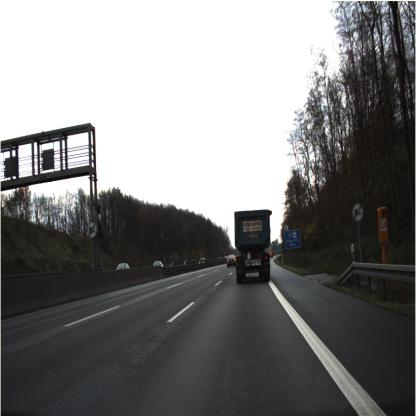restriction ends -overtaking-: (352, 203, 363, 222), (87, 222, 97, 238)
